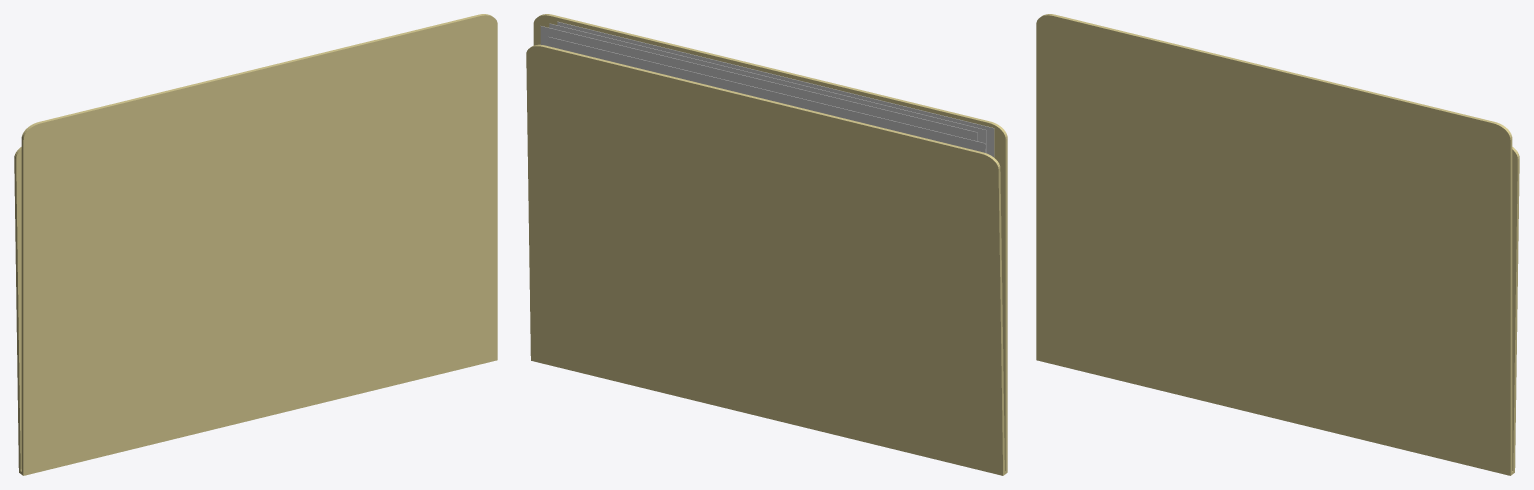
File: Folder.fbx
3 views of the same model, side by side, from view 1: azimuth 30°, elevation 25°; view 2: azimuth 150°, elevation 25°; view 3: azimuth 330°, elevation 25° (orthographic).
Parts seen in each view (by area): view 1: Cube; view 2: Cube, Plane.001, Plane.003, Plane, Plane.002; view 3: Cube.
Boxes of the visible parts, x1=… form: Cube: x1=14, y1=14, x2=497, y2=475; Cube: x1=526, y1=14, x2=1007, y2=475; Plane.001: x1=548, y1=37, x2=985, y2=152; Plane.003: x1=540, y1=26, x2=977, y2=141; Plane: x1=549, y1=23, x2=986, y2=152; Plane.002: x1=557, y1=21, x2=994, y2=157; Cube: x1=1036, y1=14, x2=1519, y2=475.
Size of the model in its own units: 120 by 84.24 by 4.11.
